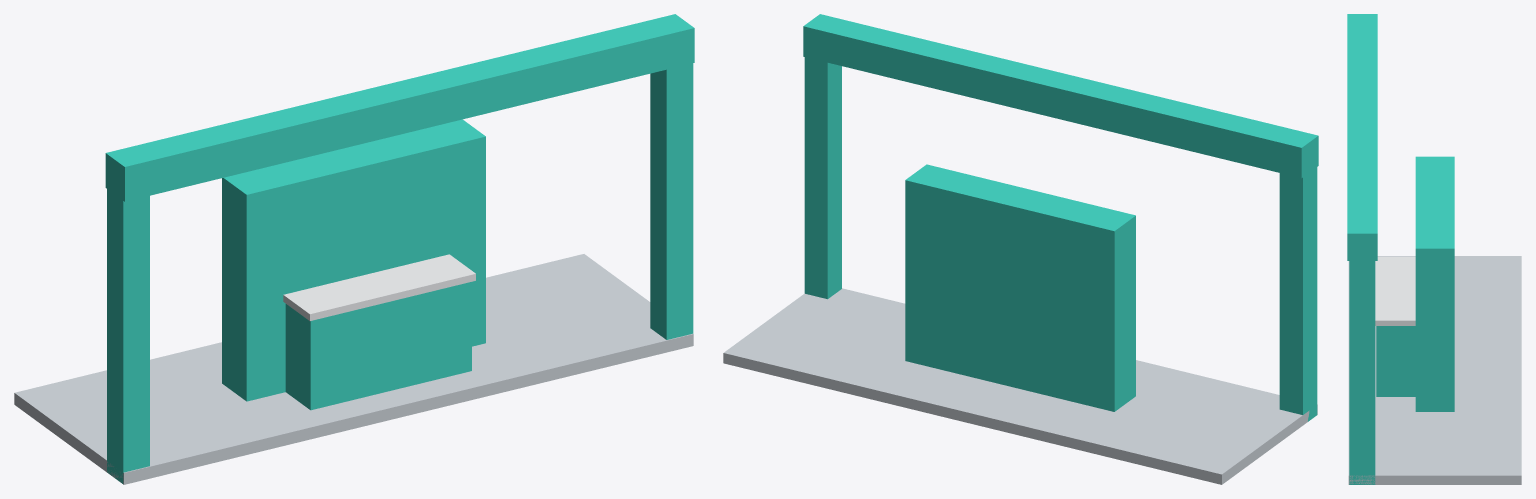
3 renders of one model, left to right at view 1: azimuth 30°, elevation 25°; view 2: azimuth 150°, elevation 25°; view 3: azimuth 270°, elevation 25°, orthographic. The views are drawn at different scales.
Parts seen in each view (by area): view 1: Exhibition Booth Concept; view 2: Exhibition Booth Concept; view 3: Exhibition Booth Concept.
Part boxes in pixels (box(x1,y1,x2,y2)): Exhibition Booth Concept: box(14, 14, 694, 484); Exhibition Booth Concept: box(723, 14, 1318, 484); Exhibition Booth Concept: box(1347, 14, 1521, 484).
Bounding box in the file's own units: 6 × 3.2 × 2.01.
